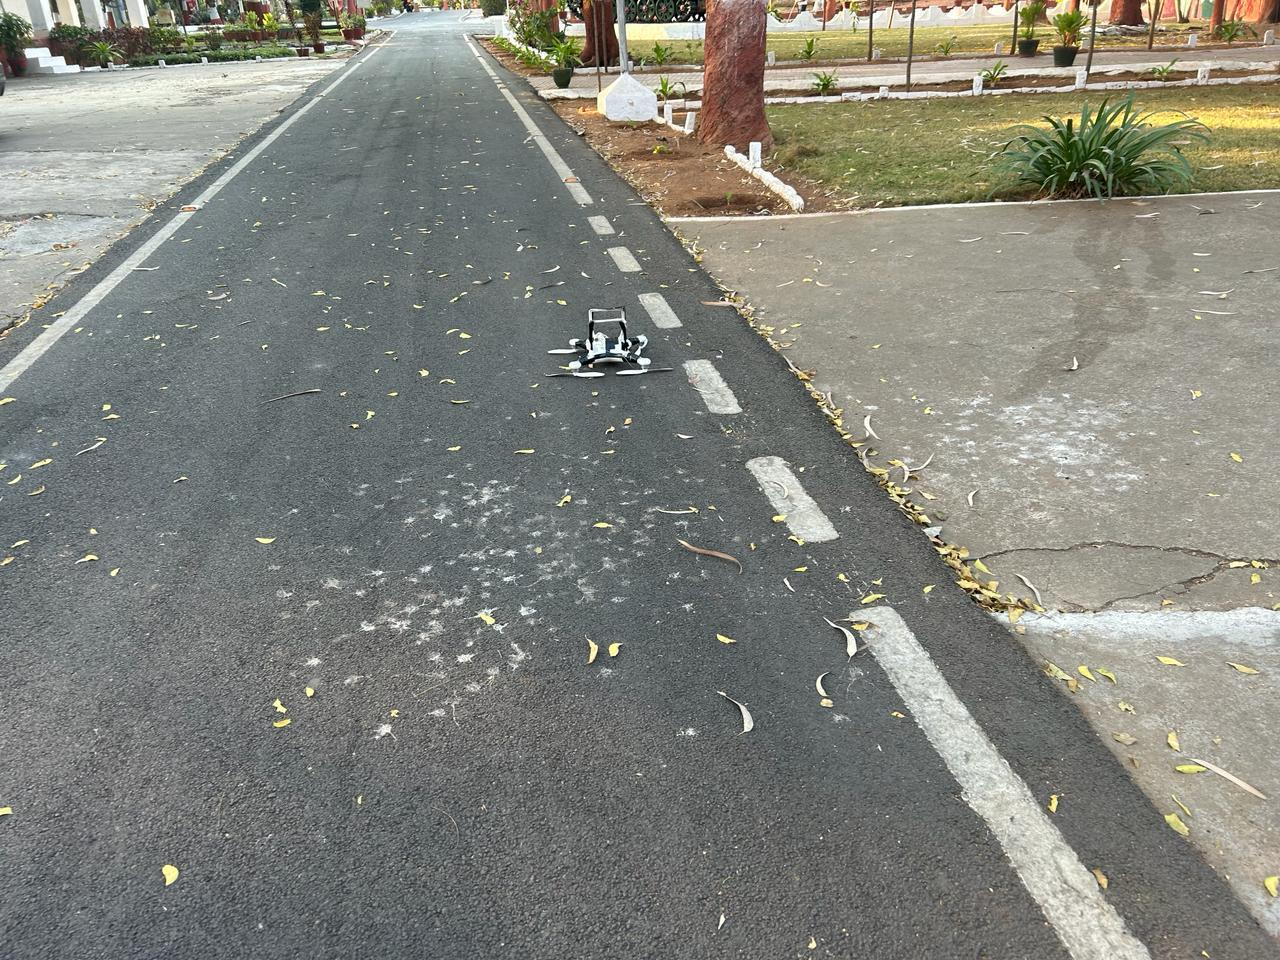drone: (504, 270, 718, 412)
